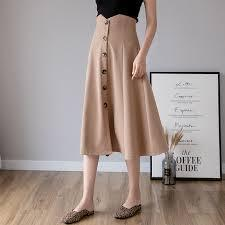skirt: (80, 15, 168, 161)
